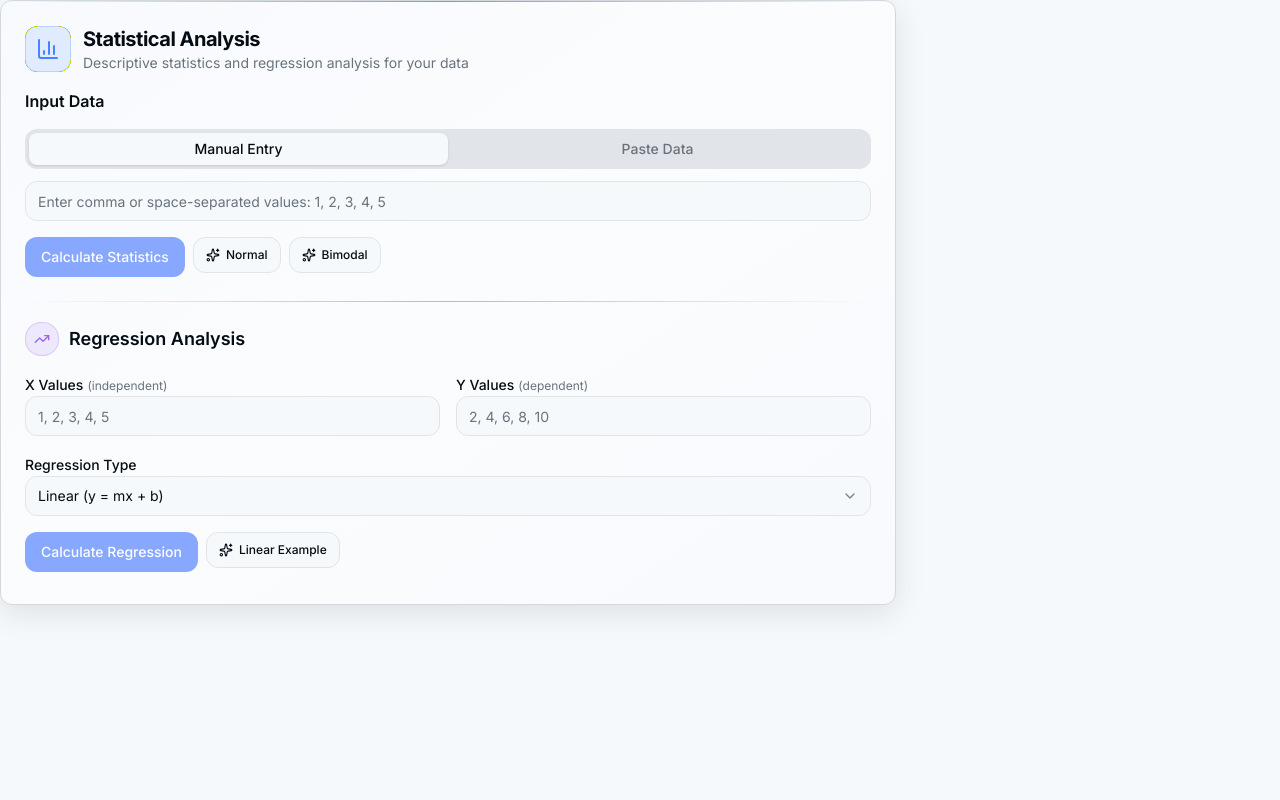
Test case: StatsPanel (UI isolation, math engine mocked) › Data Input › calculates statistics when button is clicked
Type "1, 2, 3, 4, 5" into the field with placeholder "Enter comma or space-separated values: 1, 2, 3, 4, 5".
click(448, 201); type("1, 2, 3, 4, 5")  # box [25,181,871,221]
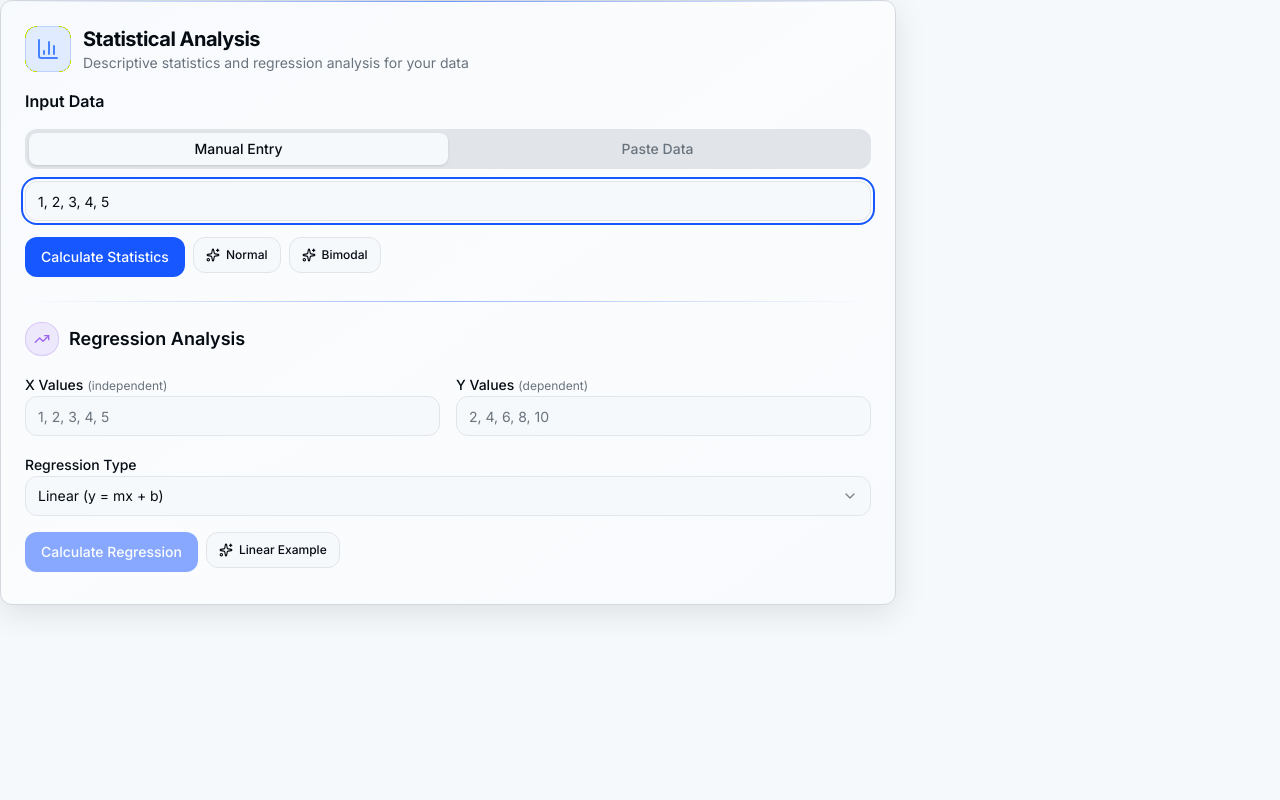
Click the button "Calculate Statistics".
click(105, 257)  # box [25,237,185,277]
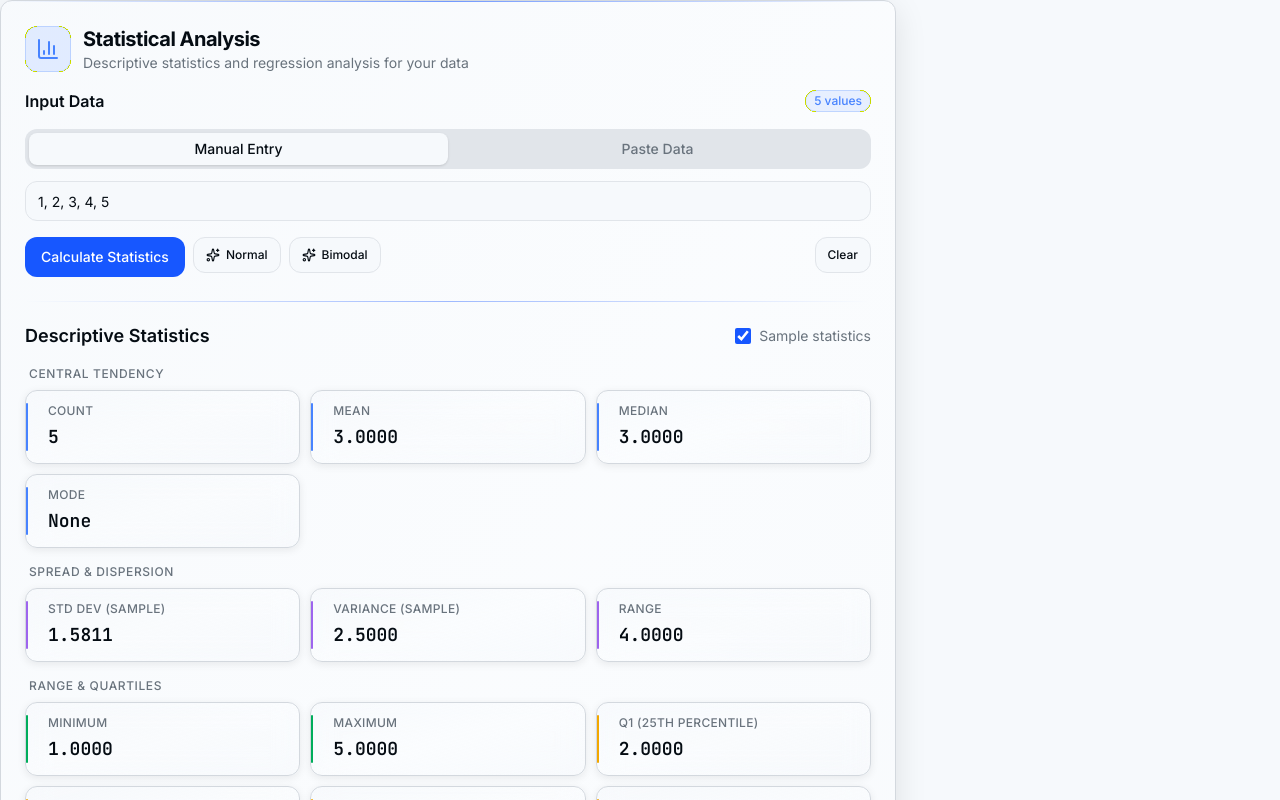
Now the heading "Descriptive Statistics" is shown, box [25,322,210,350]
